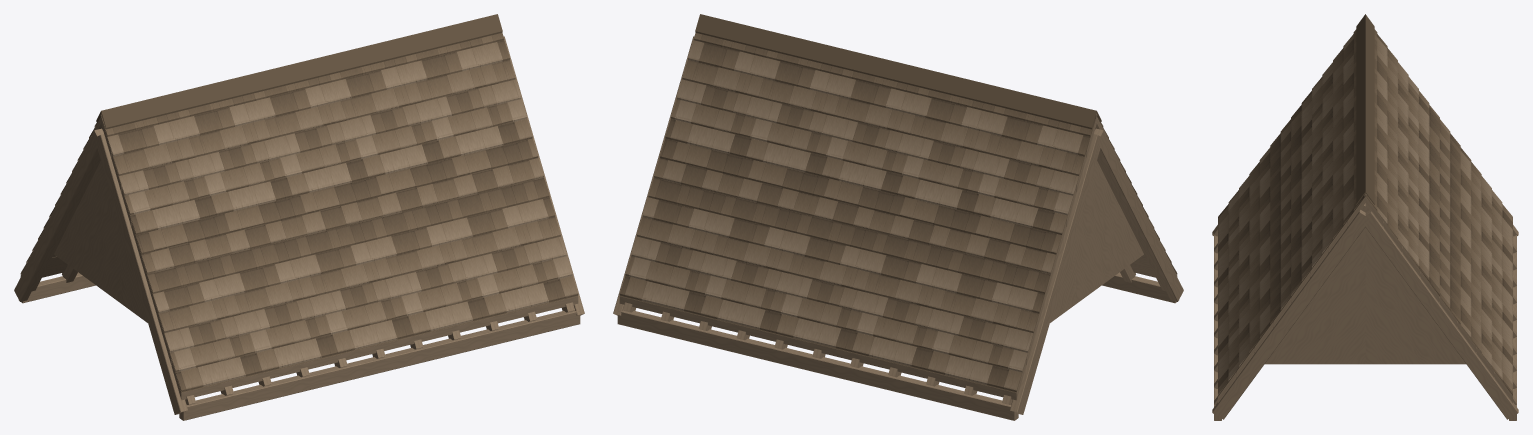
File: native_wallkit_roof.glb
3 renders of one model, left to right at view 1: azimuth 30°, elevation 25°; view 2: azimuth 150°, elevation 25°; view 3: azimuth 270°, elevation 25°, orthographic. The views are drawn at different scales.
Parts seen in each view (by area): view 1: Dimensional Brookoak shingles.008, Roof edge fascia.010, Overlapping ridge caps.010, Gable infill.010, Continuous roof deck.010, Supported roof rafters.010, Roof underlay.010; view 2: Dimensional Brookoak shingles.008, Roof edge fascia.010, Overlapping ridge caps.010, Gable infill.010, Continuous roof deck.010, Supported roof rafters.010, Roof underlay.010; view 3: Dimensional Brookoak shingles.008, Gable infill.010, Roof edge fascia.010, Overlapping ridge caps.010, Continuous roof deck.010, Supported roof rafters.010, Roof underlay.010.
Boxes of the visible parts, left/top/right/bottom form: Dimensional Brookoak shingles.008: left=20, top=33, right=578, bottom=391; Roof edge fascia.010: left=14, top=36, right=584, bottom=420; Overlapping ridge caps.010: left=96, top=14, right=502, bottom=129; Gable infill.010: left=54, top=161, right=147, bottom=322; Continuous roof deck.010: left=20, top=116, right=578, bottom=400; Supported roof rafters.010: left=32, top=129, right=574, bottom=404; Roof underlay.010: left=21, top=116, right=577, bottom=392; Dimensional Brookoak shingles.008: left=619, top=33, right=1177, bottom=391; Roof edge fascia.010: left=613, top=36, right=1183, bottom=420; Overlapping ridge caps.010: left=695, top=14, right=1101, bottom=129; Gable infill.010: left=1050, top=161, right=1143, bottom=322; Continuous roof deck.010: left=619, top=116, right=1177, bottom=400; Supported roof rafters.010: left=623, top=129, right=1165, bottom=404; Roof underlay.010: left=620, top=116, right=1176, bottom=392; Dimensional Brookoak shingles.008: left=1218, top=29, right=1512, bottom=395; Gable infill.010: left=1265, top=227, right=1465, bottom=364; Roof edge fascia.010: left=1212, top=210, right=1518, bottom=420; Overlapping ridge caps.010: left=1356, top=14, right=1374, bottom=204; Continuous roof deck.010: left=1218, top=196, right=1512, bottom=402; Supported roof rafters.010: left=1214, top=203, right=1516, bottom=404; Roof underlay.010: left=1218, top=195, right=1512, bottom=396.
Bounding box in the file's own units: 6.83 × 4.03 × 4.88.
4 materials, 3 textured.
